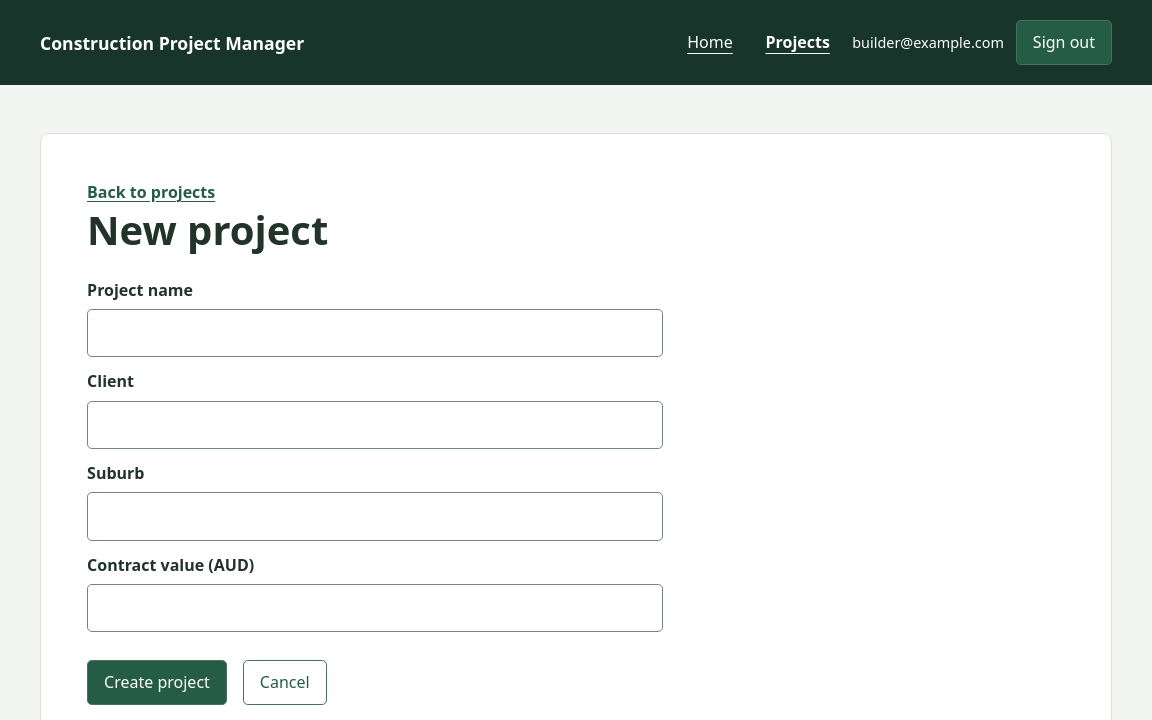
it: Projects frontend › creates a project as Admin with string money and navigates to detail
Type "Fictional Wattle House" into the field labelled "Project name" at (375, 333), box [87,309,663,357]
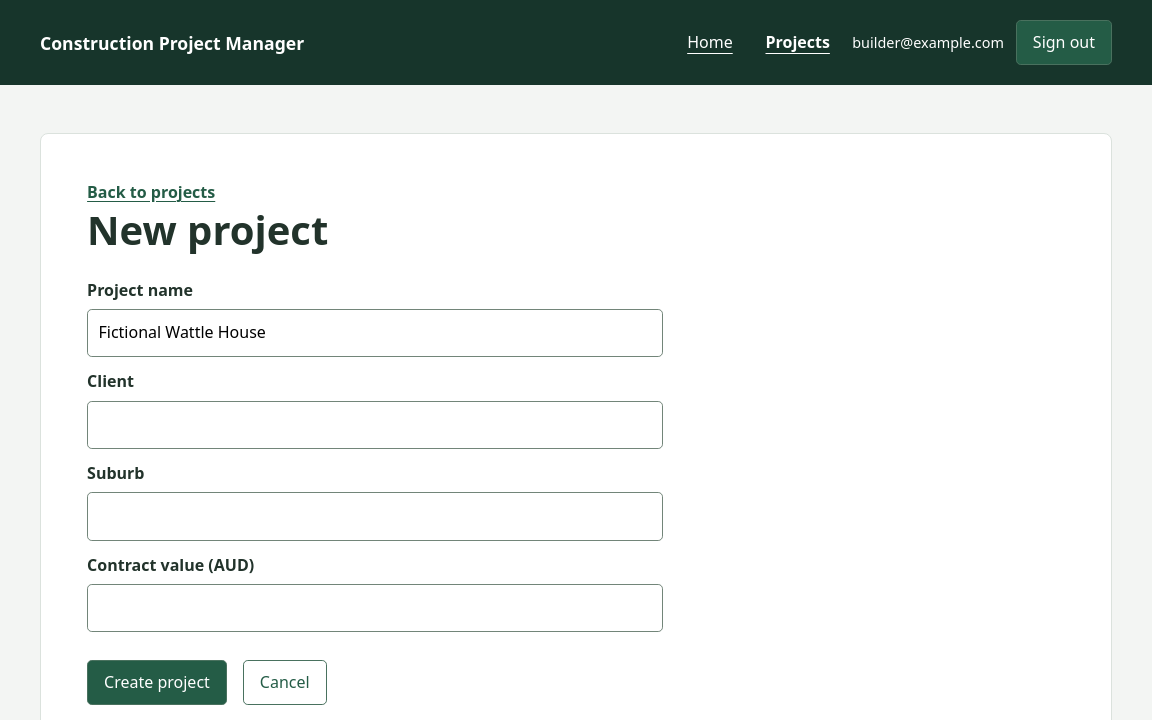
Type "Fictional Client" into the field labelled "Client" at (375, 425), box [87,401,663,449]
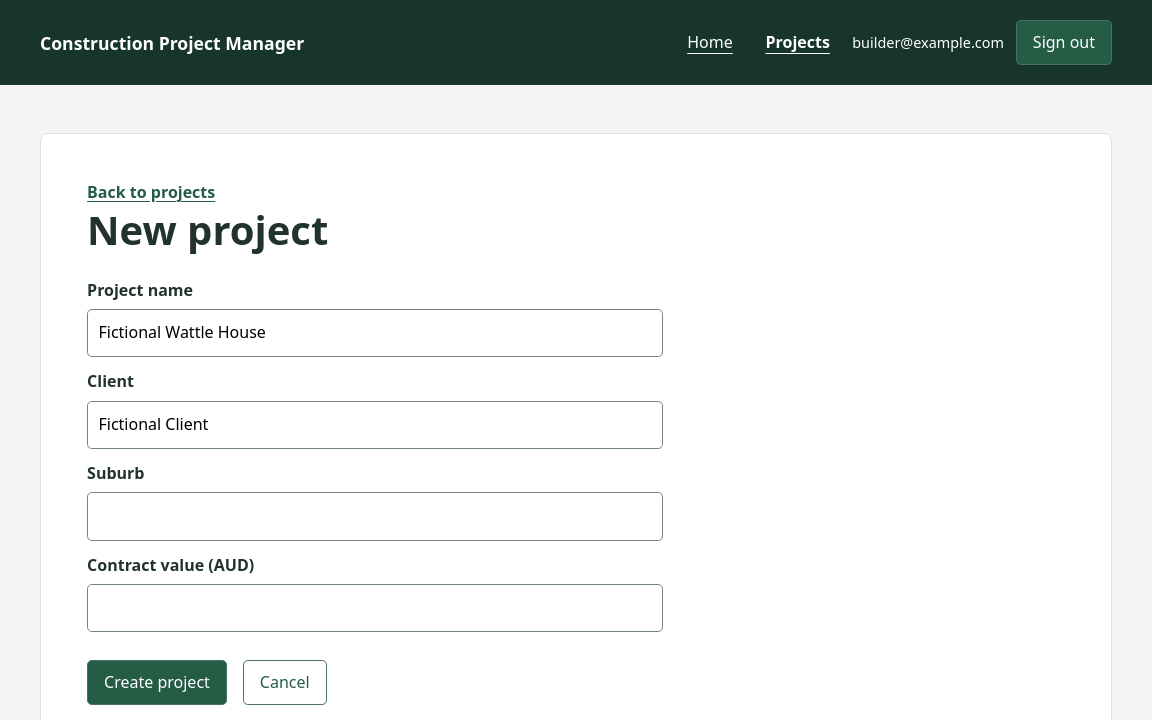
Type "Bendigo" into the field labelled "Suburb" at (375, 516), box [87,492,663,541]
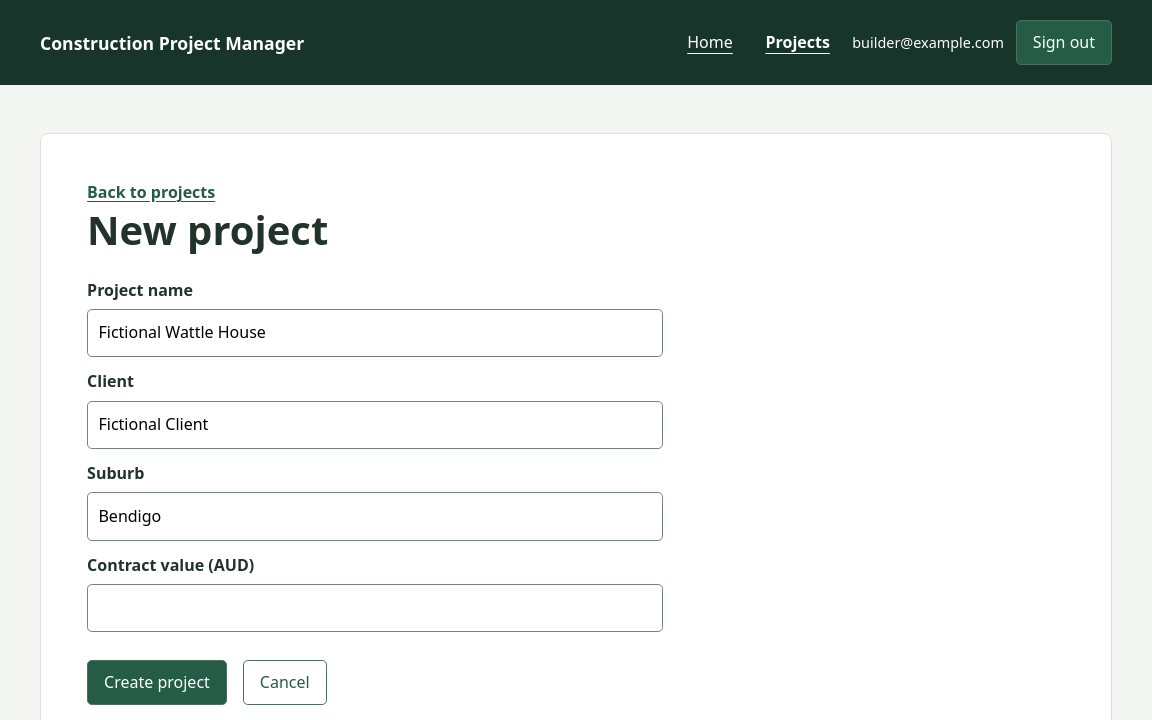
Type "100000.20" into the field labelled "Contract value (AUD)" at (375, 608), box [87,584,663,632]
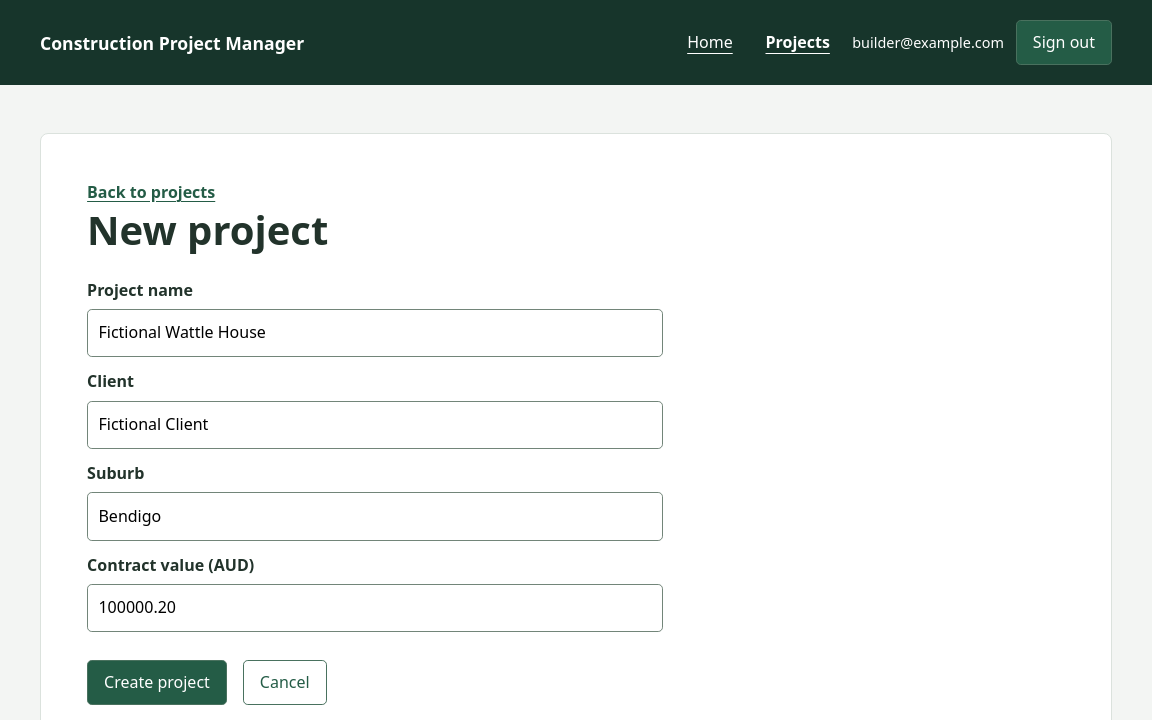
Click the button "Create project" at (157, 683), box [87,660,227,705]
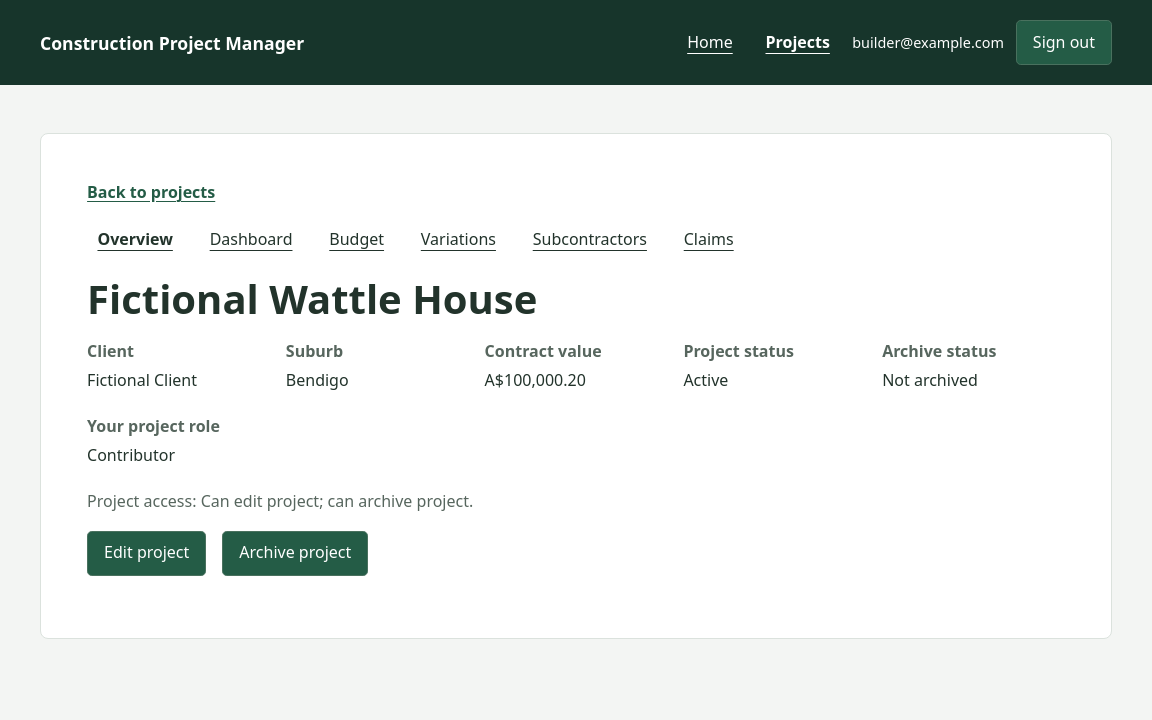
expect the heading "Fictional Wattle House" is shown: met, box [87,271,537,326]
